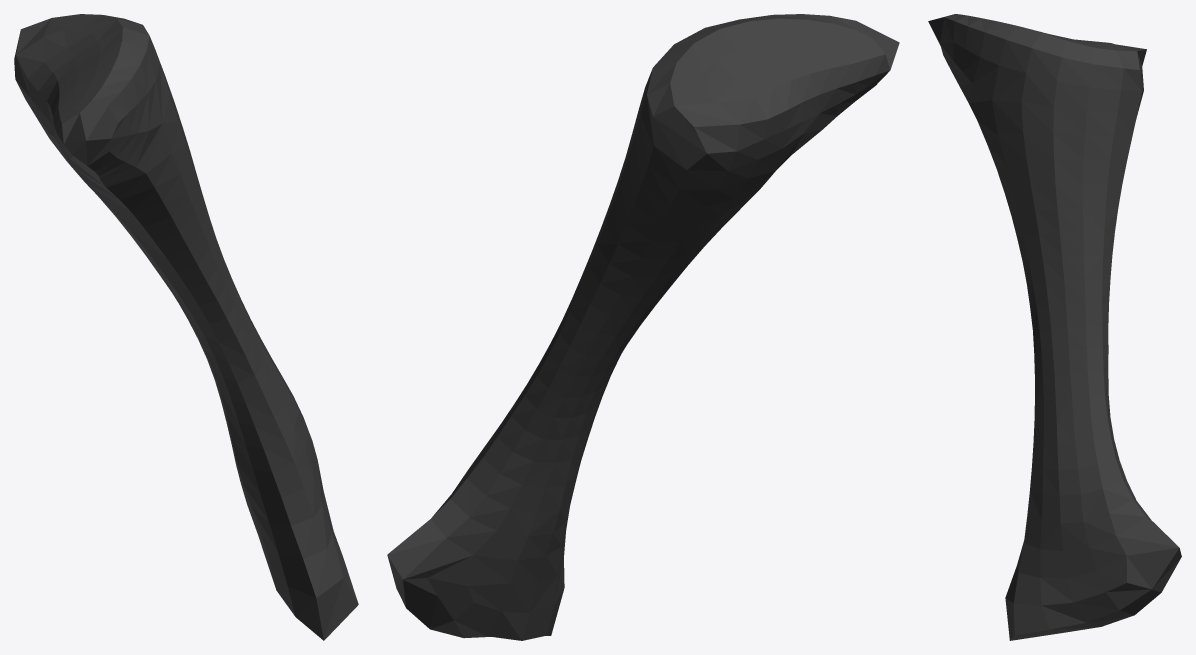
Rendered from lig_zyg.glb.
3 renders of one model, left to right at view 1: azimuth 30°, elevation 25°; view 2: azimuth 150°, elevation 25°; view 3: azimuth 270°, elevation 25°, orthographic. The views are drawn at different scales.
Parts seen in each view (by area): view 1: lig_zyg; view 2: lig_zyg; view 3: lig_zyg.
Part boxes in pixels (box(x1,y1,x2,y2)): lig_zyg: box(14, 14, 358, 640); lig_zyg: box(387, 14, 899, 640); lig_zyg: box(928, 14, 1181, 640).
Size of the model in its own units: 0.173 by 0.2966 by 0.1275.
1 material, 1 textured.
